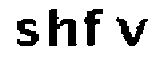f: (81, 5, 105, 46)
h: (45, 5, 77, 48)
s: (13, 18, 40, 48)
v: (113, 15, 148, 49)
